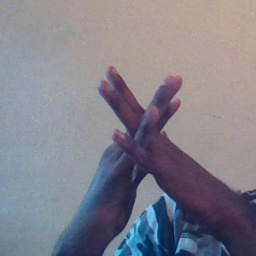W: (84, 57, 203, 222)
